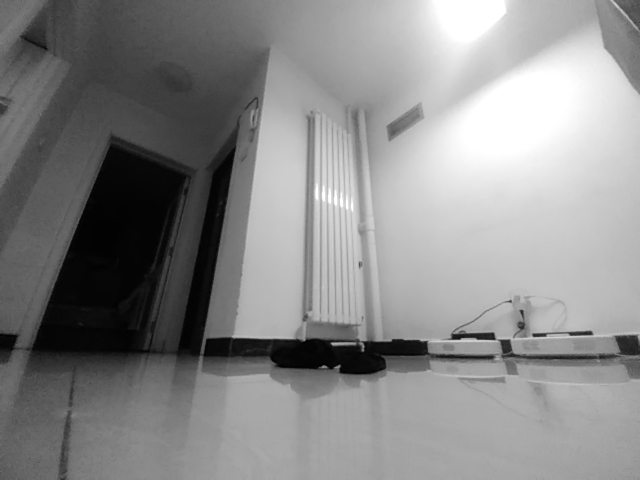others: (270, 338, 386, 376)
